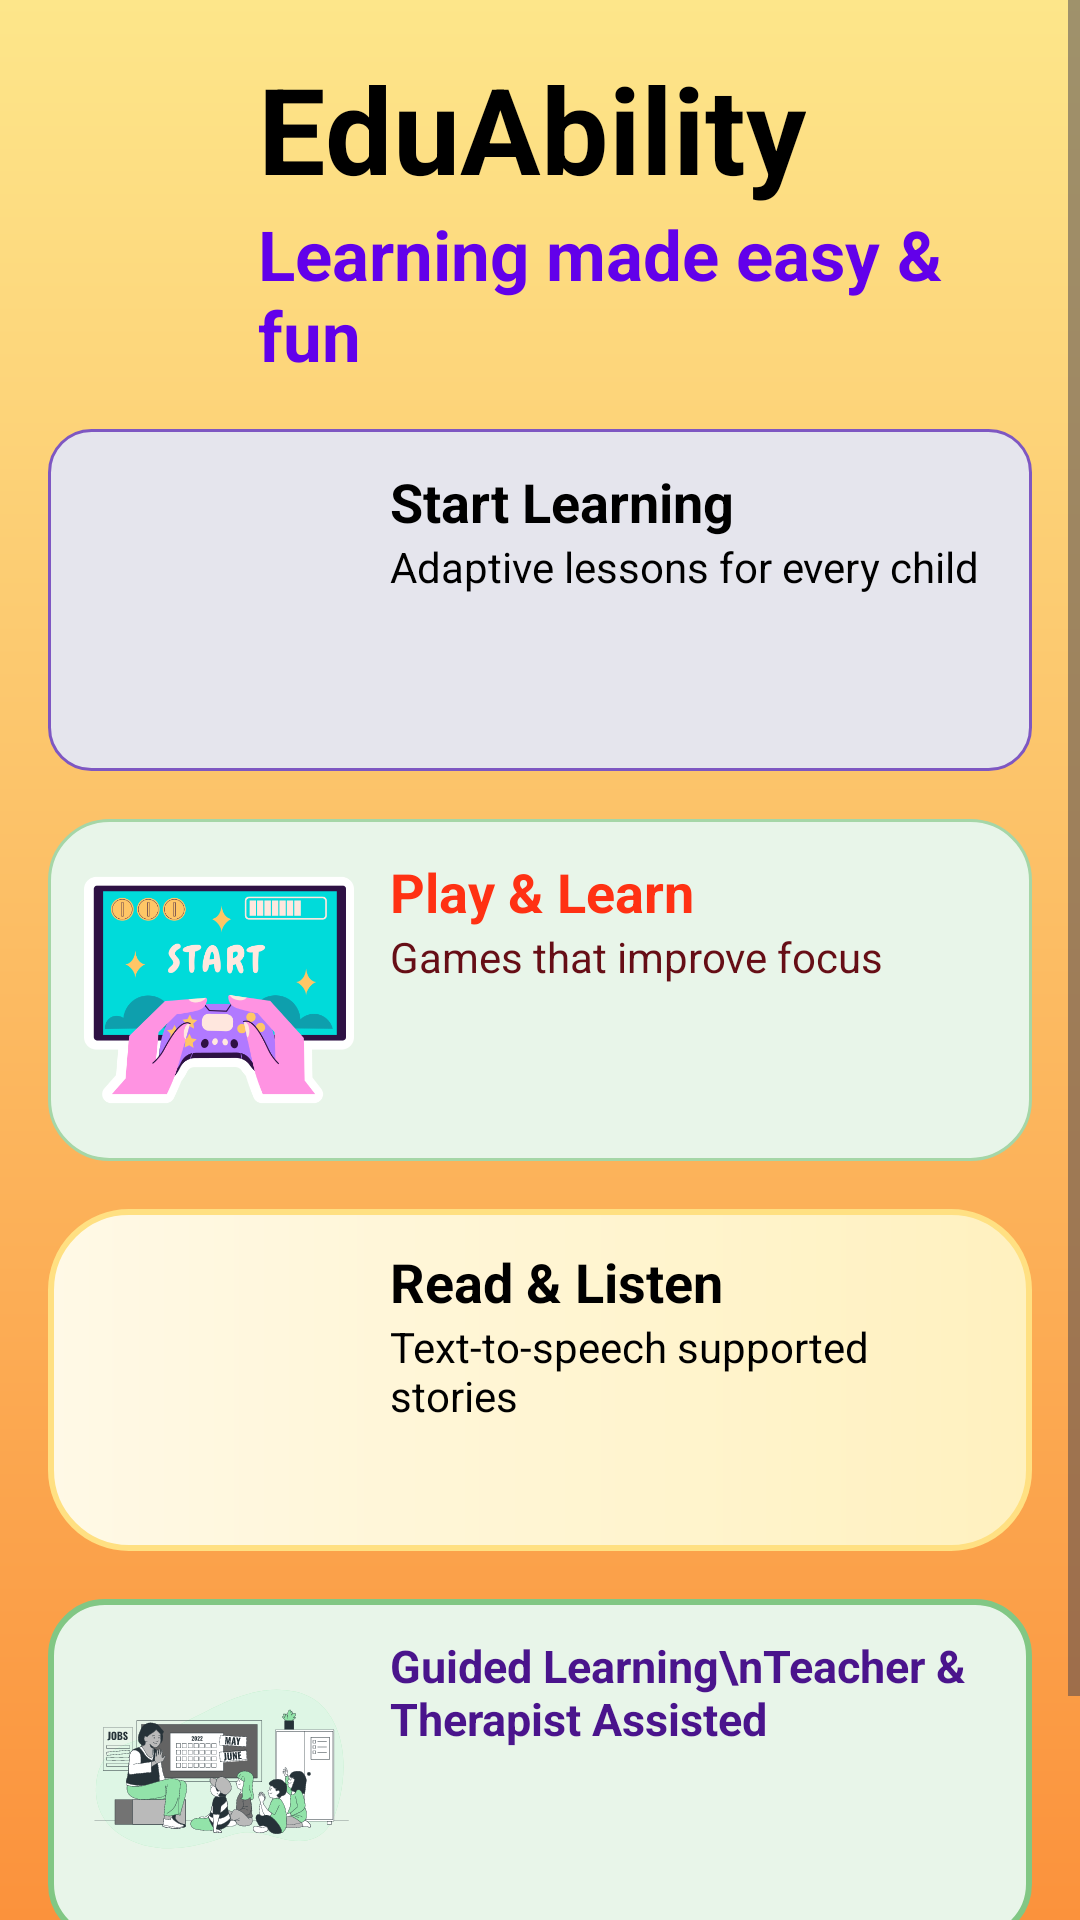

Point at icon controls on the screen. Image size 1080px×1920px, points as point (x, y).
kindergarten student bro: point (221, 1769)
